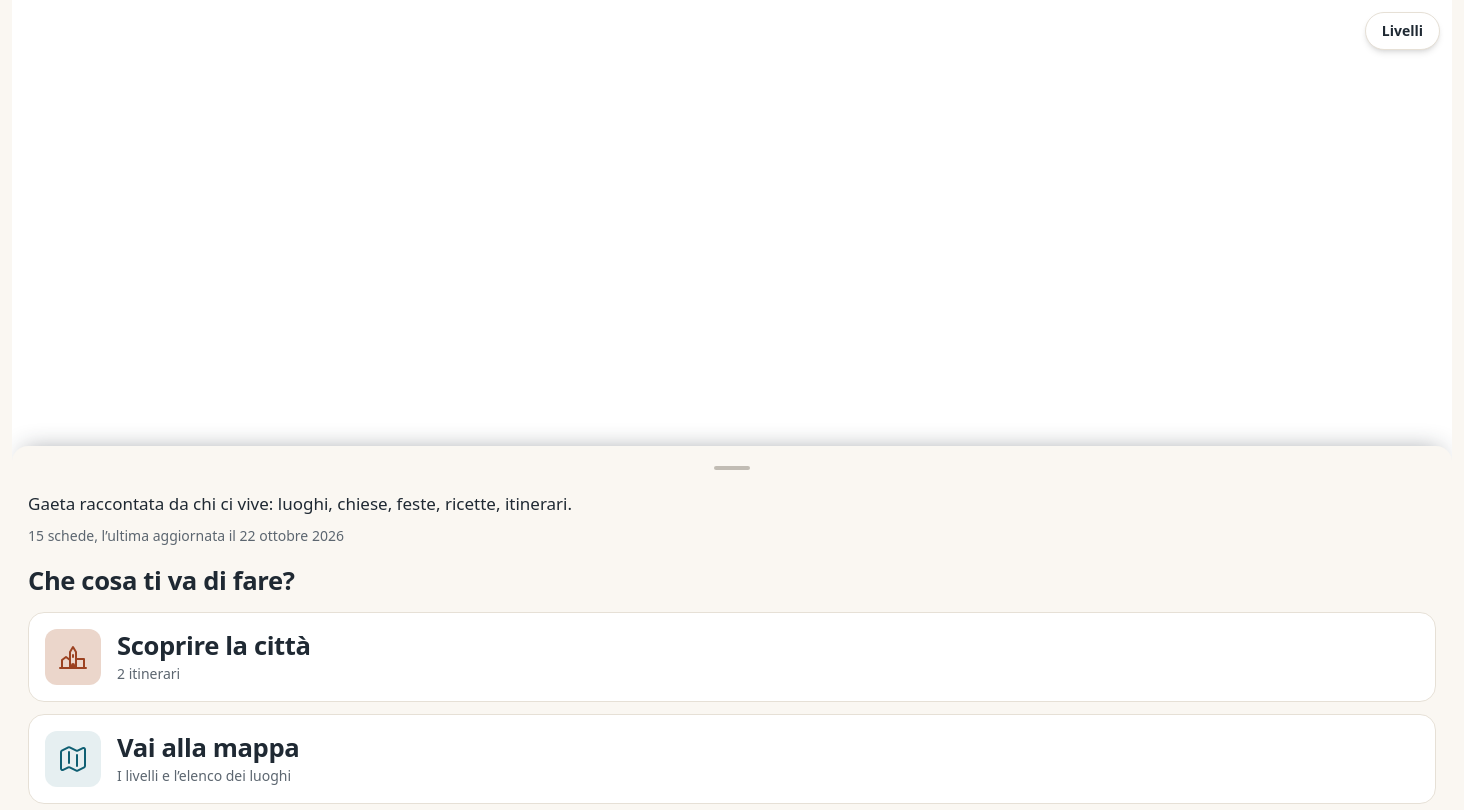
Scenario: HomeView on a phone (spec/design.md D3/D4/D5) › offers the sheet as a keyboard control, not only as a drag
What coordinates should you click on to do the following:
click the button named "Trascina per vedere più mappa"
I would click on:
 (732, 468)
Its box is [12,446,1452,490].
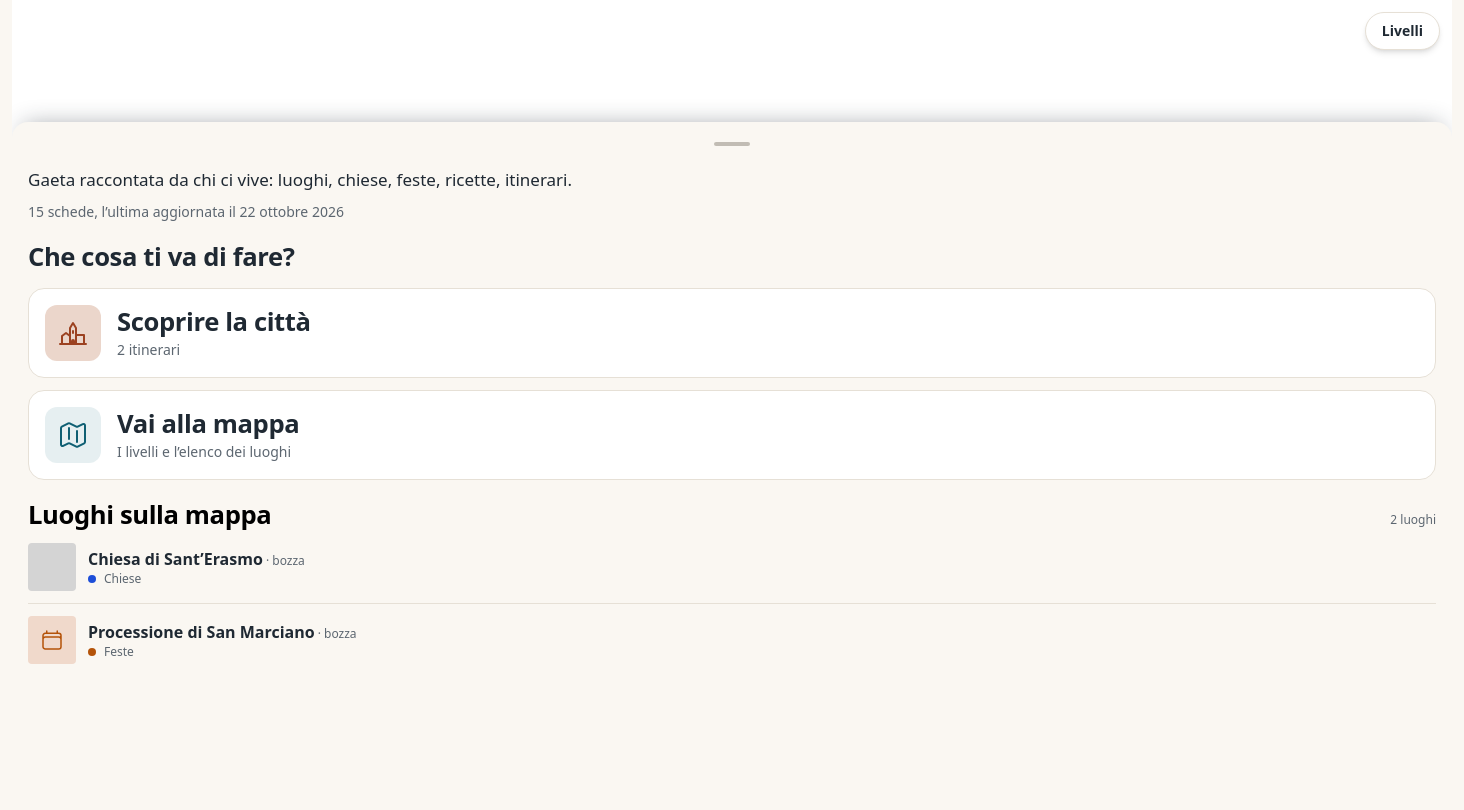
What coordinates should you click on to do the following:
click the button named "Trascina per vedere più mappa"
I would click on:
 (732, 144)
Its box is [12,122,1452,166].
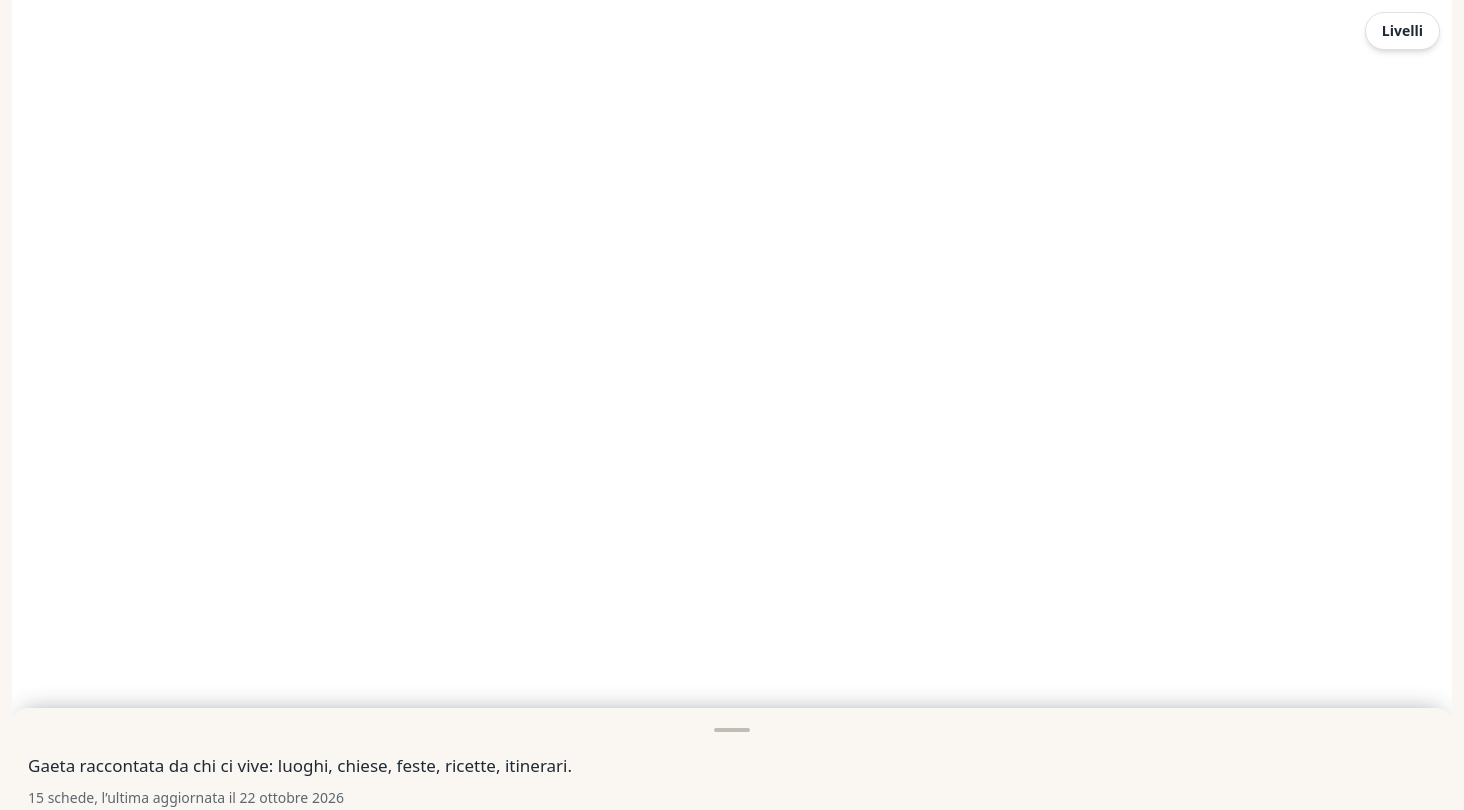
Now the button named "Trascina per vedere più mappa" is collapsed, box [12,708,1452,752]
